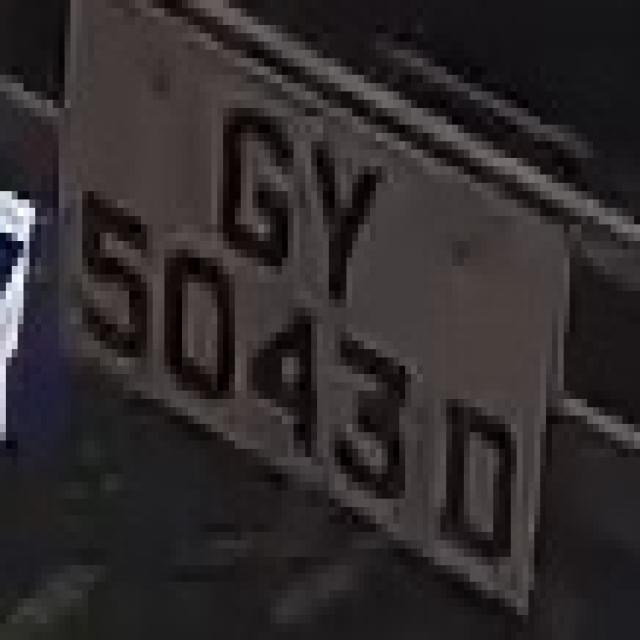0: (164, 200, 235, 440)
3: (323, 299, 405, 507)
4: (246, 266, 334, 474)
5: (76, 141, 158, 399)
D: (434, 366, 516, 598)
G: (205, 66, 282, 291)
Y: (300, 116, 394, 316)
